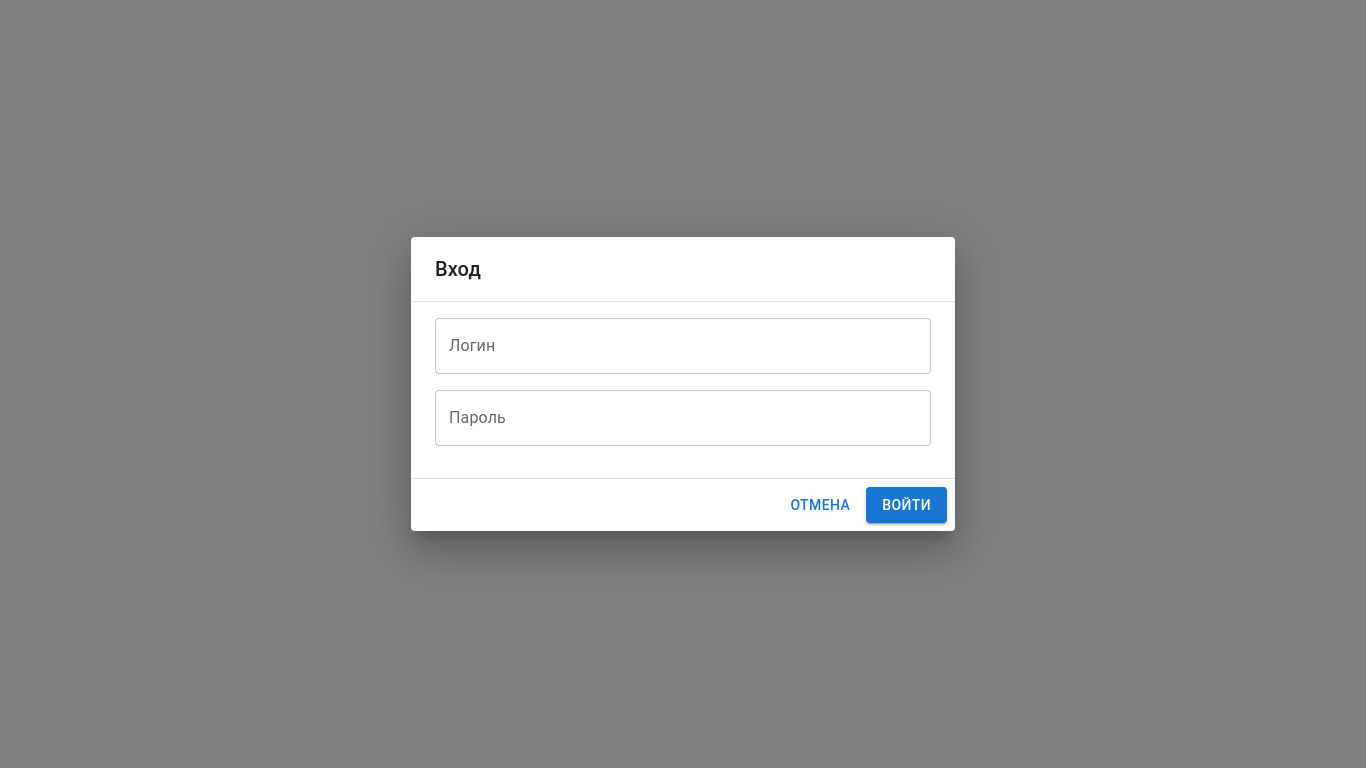
Scenario: AuthDialog › Показывает ошибку при неверном вводе
Type "wronguser" into the field labelled "Логин".
click(683, 346); type("wronguser")  # box [435,318,931,374]
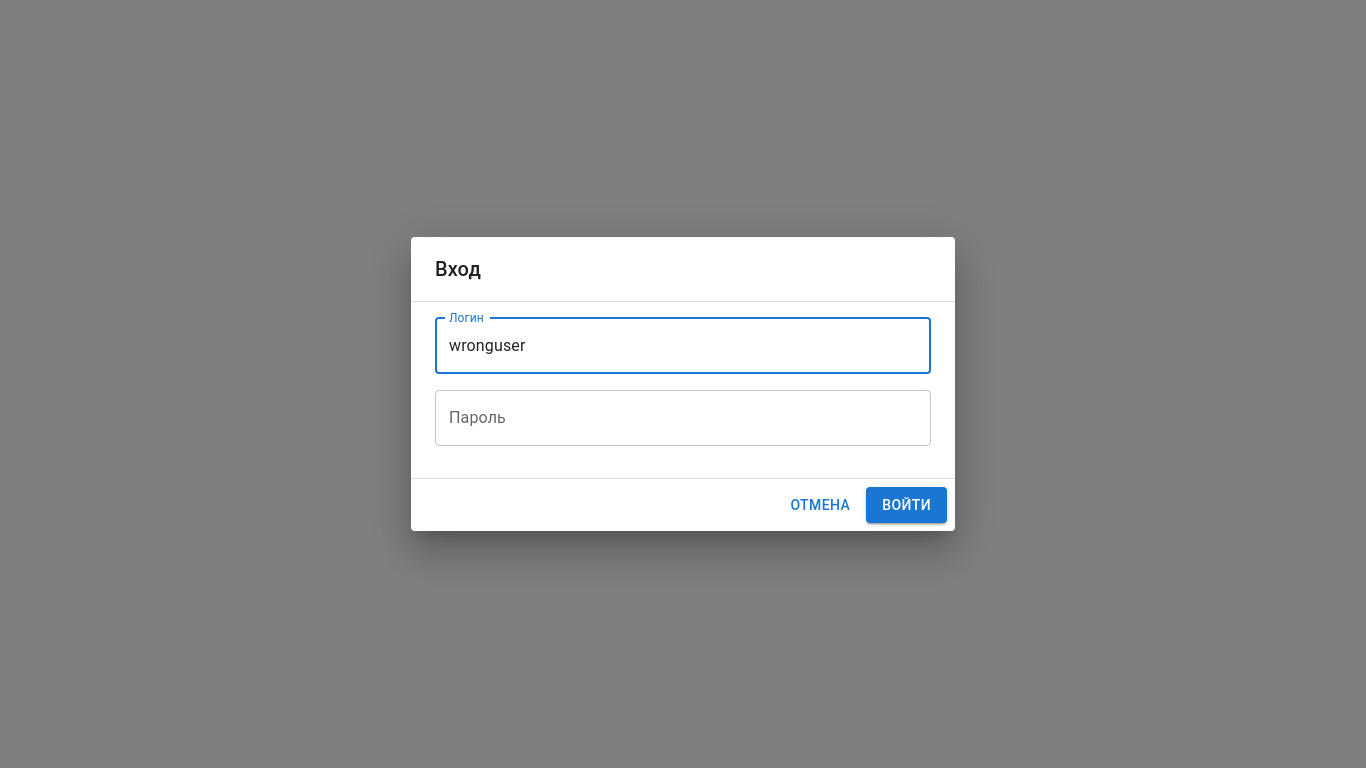
Type "wrongpass" into the password field labelled "Пароль".
click(683, 418); type("wrongpass")  # box [435,390,931,446]
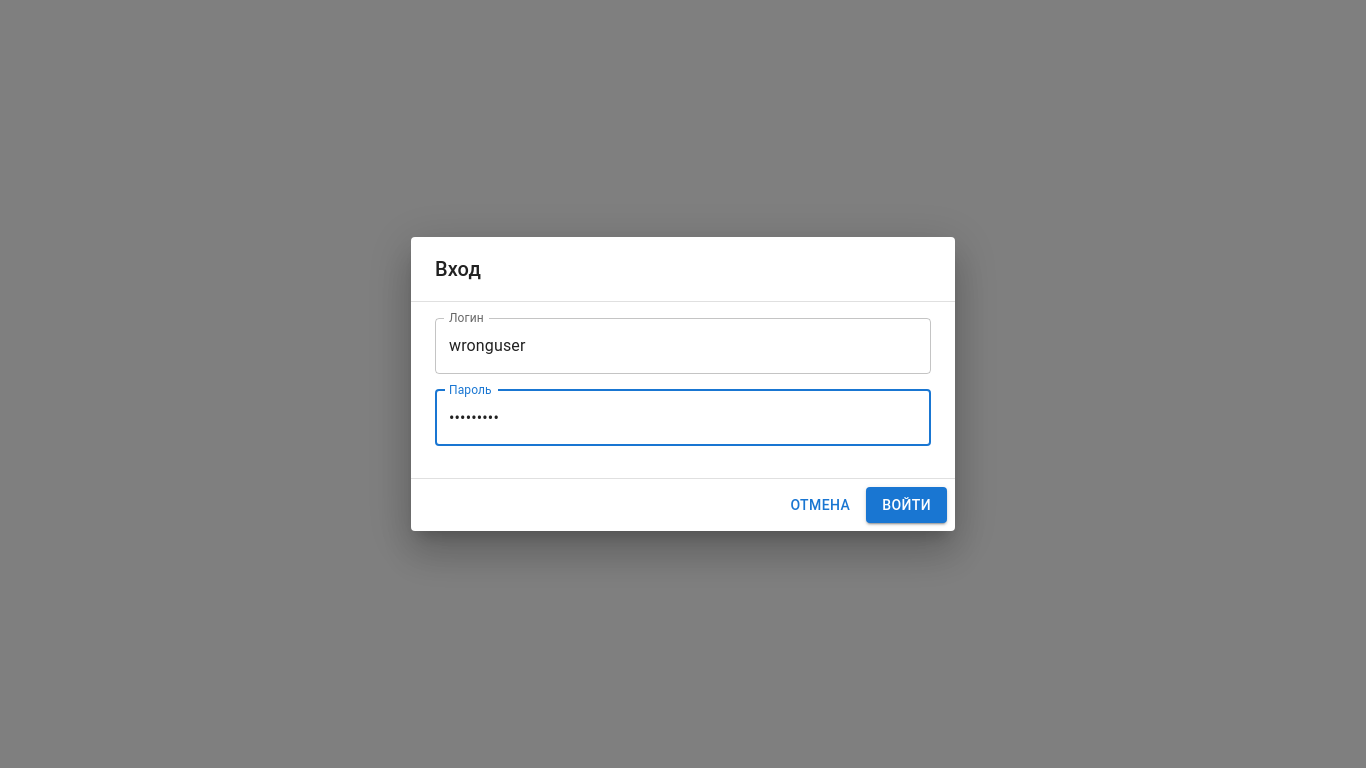
Click the button "Войти".
click(907, 505)  # box [866,487,947,523]
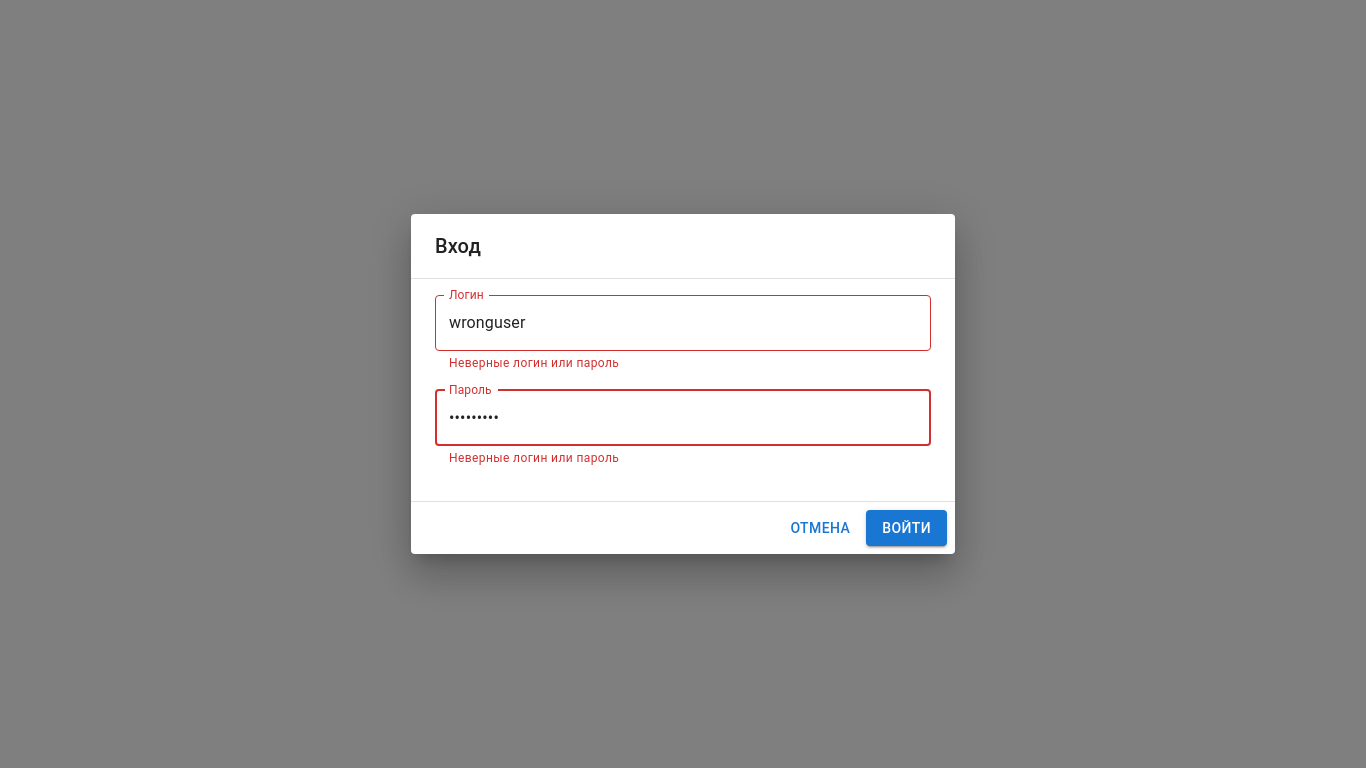
Now the 1st text "Неверные логин или пароль" is shown, box [449,356,619,370]
